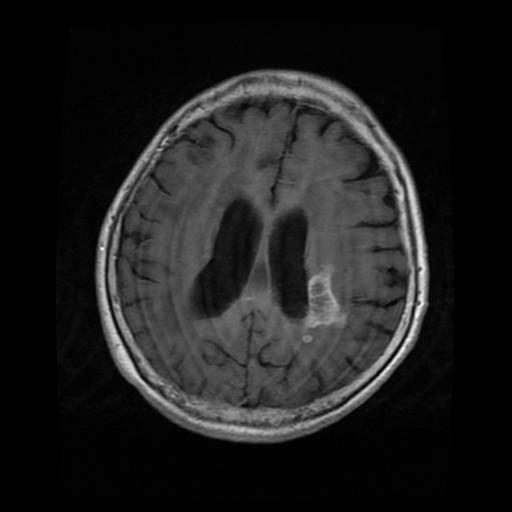Tumour-Glioma: (306, 276, 352, 332)
